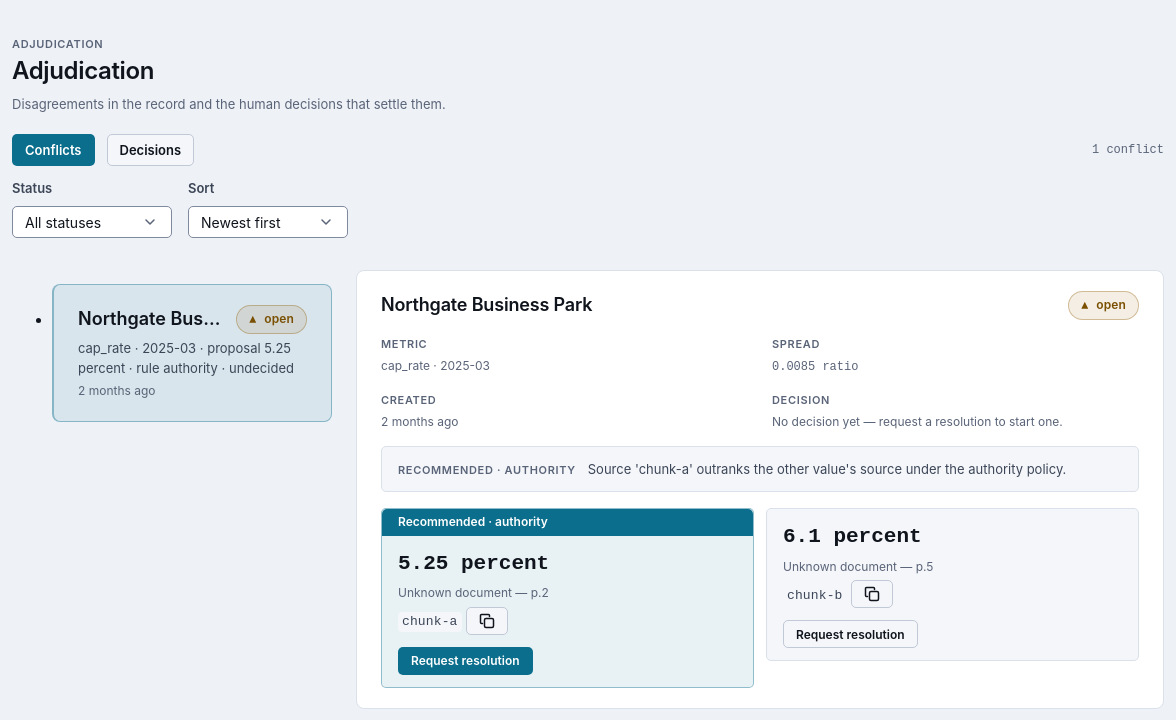
Scenario: AdjudicationPage › applies and clears the conflicts status filter, round-tripping through the URL
The width and height of the screenshot is (1176, 720).
Expected: the text "Northgate Business Park" is shown, x1=78 y1=305 x2=224 y2=333
Select "Resolved" in the dropdown labelled "Status" at (92, 222), box x1=12 y1=206 x2=172 y2=238
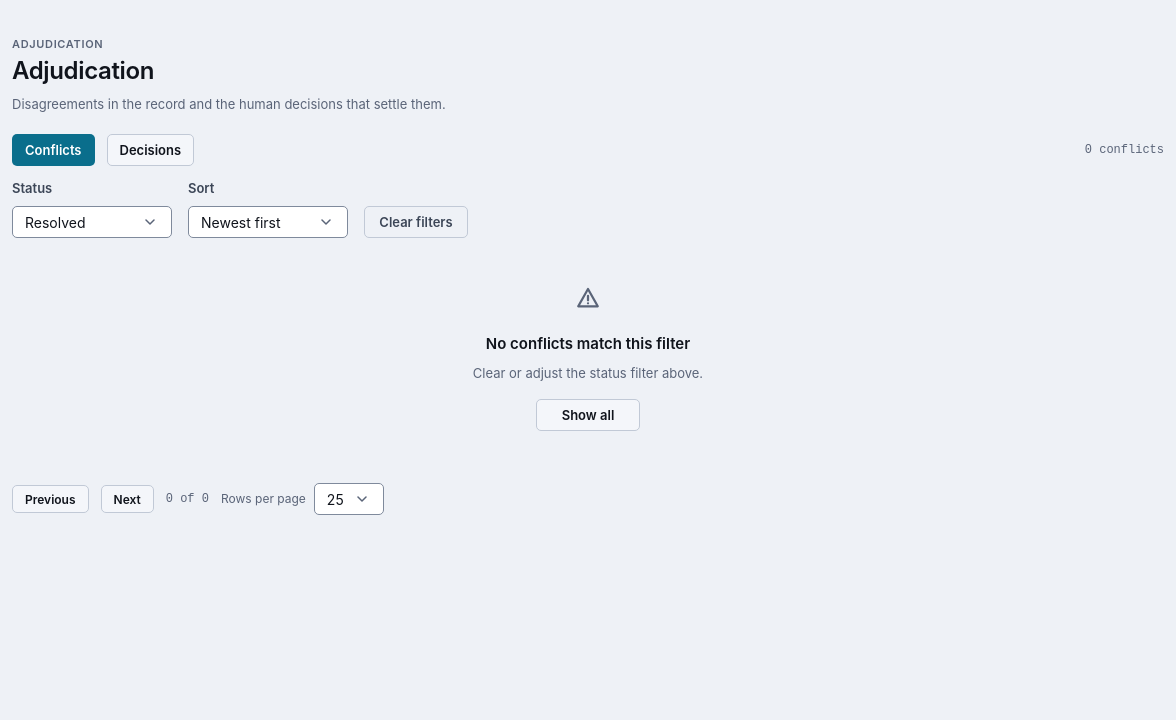
Now the text "No conflicts match this filter" is shown, box x1=486 y1=332 x2=690 y2=355
Click the button "Show all".
click(588, 415)  # box x1=536 y1=399 x2=640 y2=431
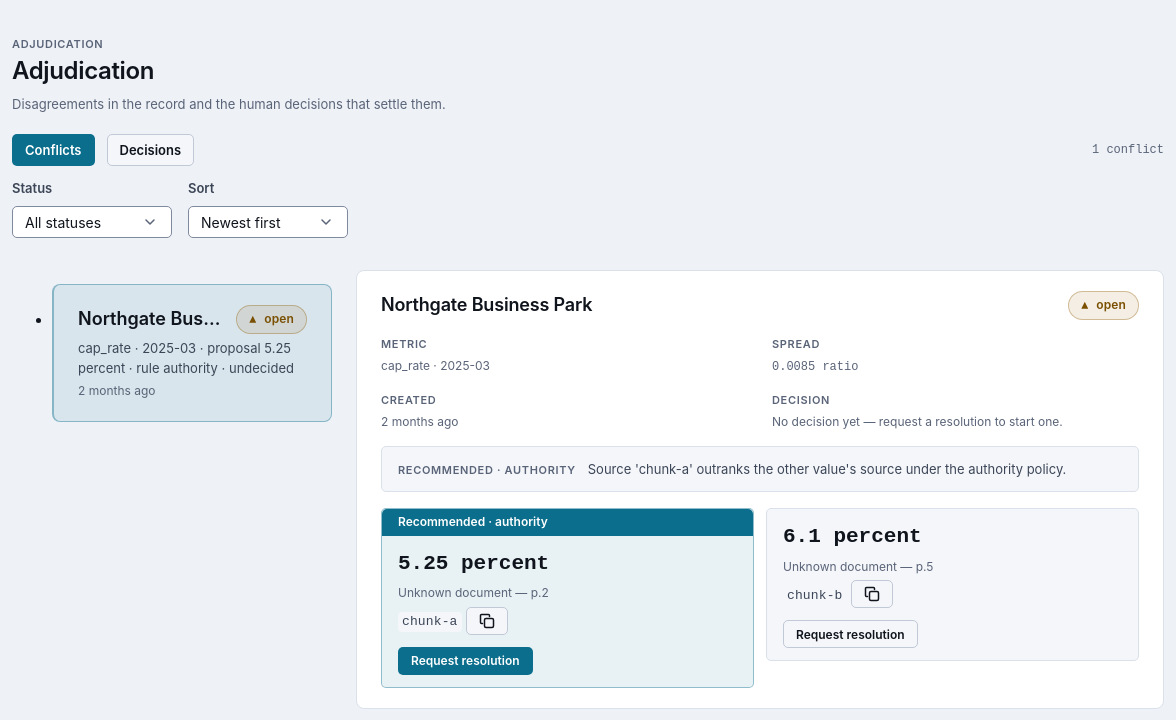
Now the text "Northgate Business Park" is shown, box x1=78 y1=305 x2=224 y2=333
